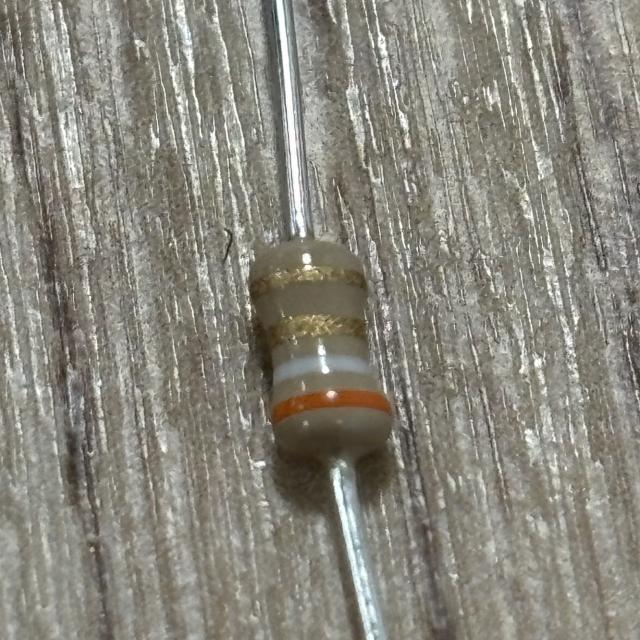resistor: (245, 242, 408, 449)
